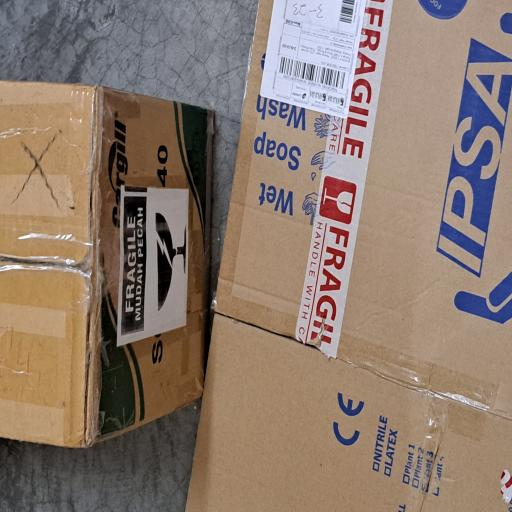cardboard: (0, 247, 384, 512), (47, 0, 334, 291)
